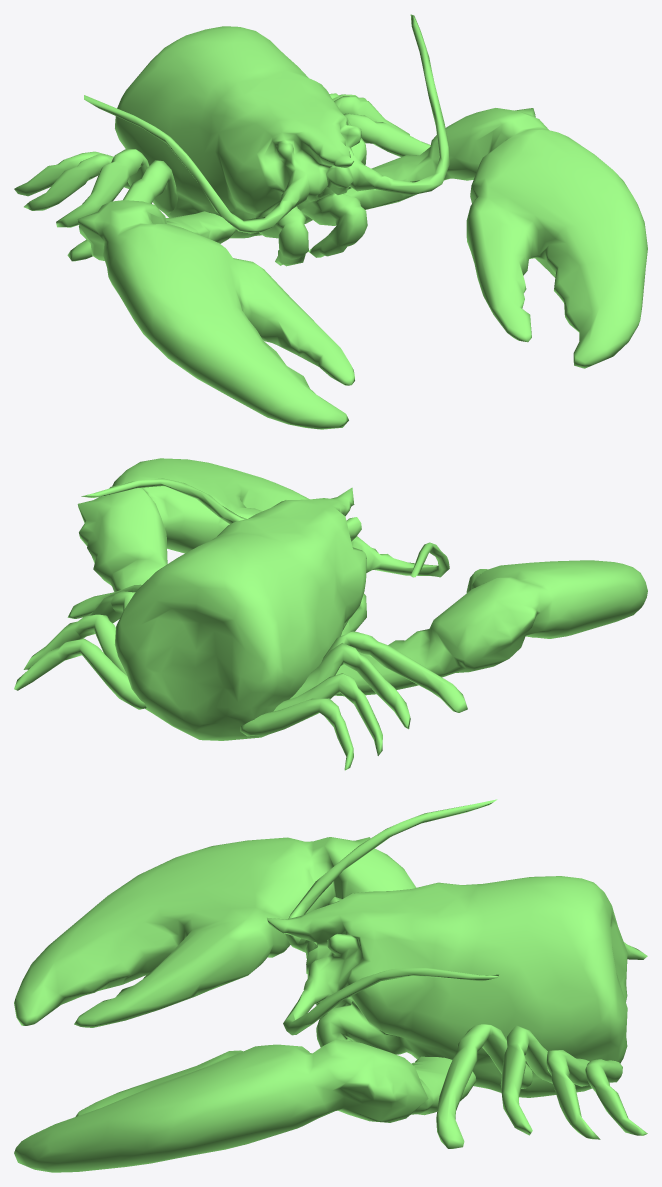
Rendered from lobster_low.fbx.
3 views of the same model, one above another, from view 1: azimuth 30°, elevation 25°; view 2: azimuth 150°, elevation 25°; view 3: azimuth 270°, elevation 25° (orthographic). The views are drawn at different scales.
Visible parts, largest first — view 1: PolySphere; view 2: PolySphere; view 3: PolySphere.
Part boxes in pixels (x1,y1,x2,y2): PolySphere: (14,14,647,429); PolySphere: (14,458,647,770); PolySphere: (14,799,647,1172).
Bounding box in the file's own units: 5.71 × 2.08 × 5.8.
